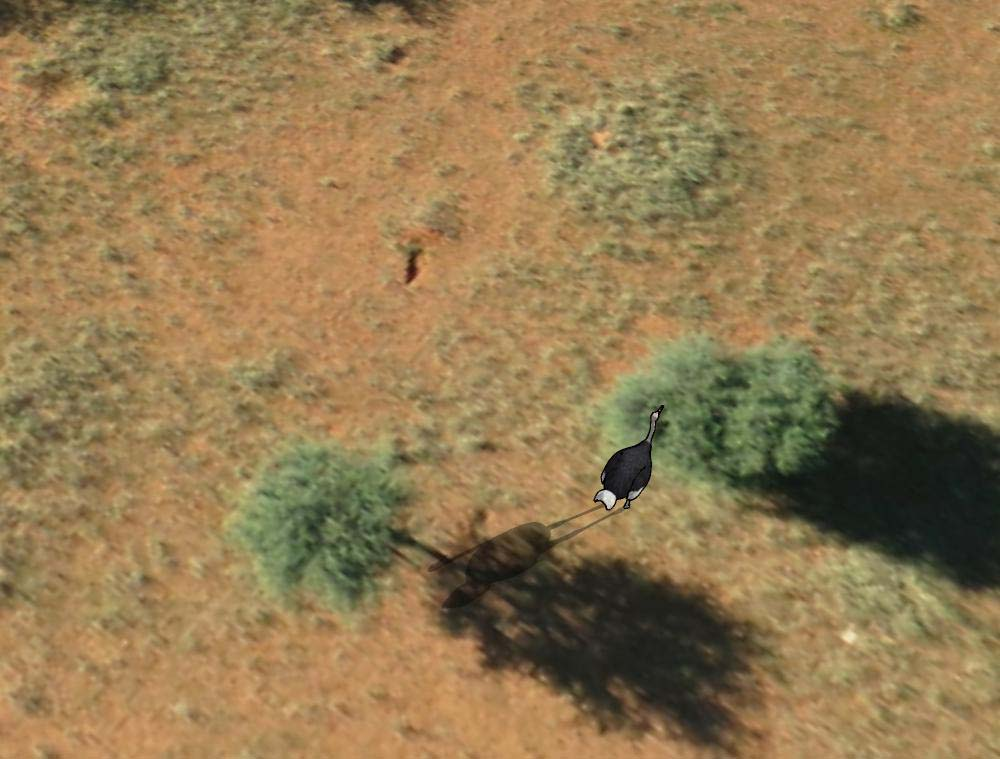ostrich: (595, 404, 661, 513)
